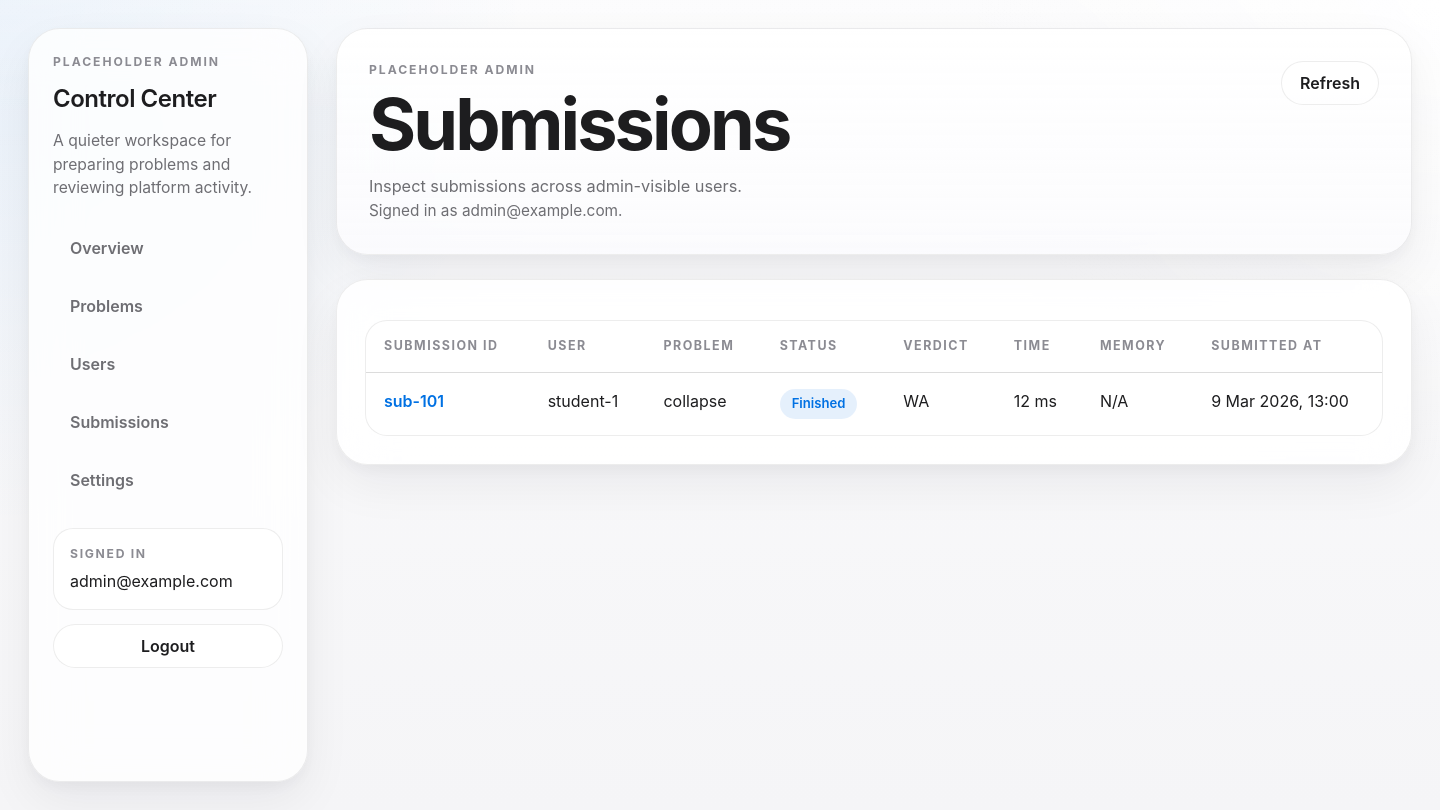
Scenario: submissions list page › renders fetched submission rows and refreshes the list
The width and height of the screenshot is (1440, 810).
Expected: the link "sub-101" is shown, x1=384 y1=391 x2=444 y2=411
Expected: the text "12 ms" is shown, x1=996 y1=372 x2=1082 y2=435
Click the button "Refresh" at (1330, 83), box x1=1281 y1=61 x2=1379 y2=105
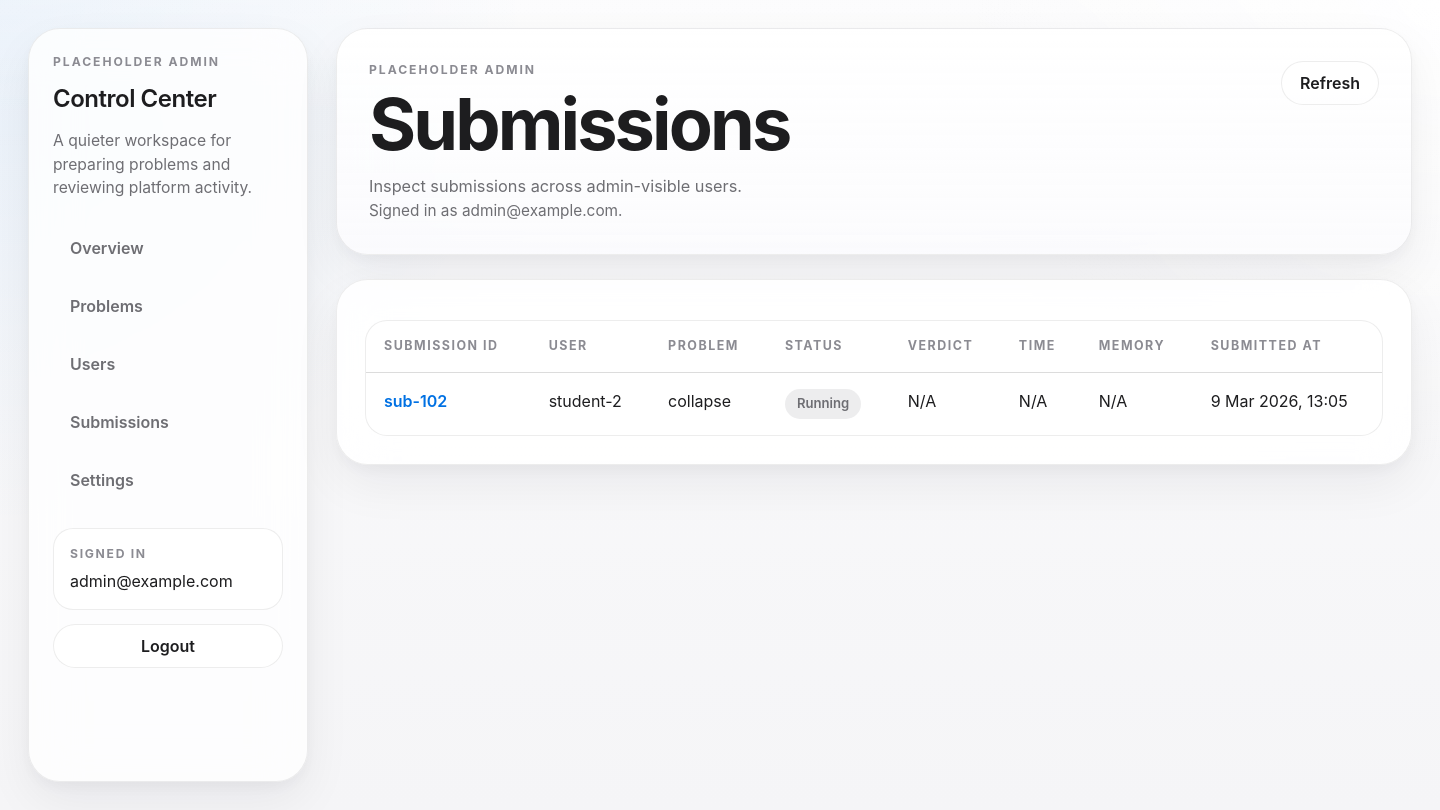
Now the link "sub-102" is shown, box x1=384 y1=391 x2=447 y2=411
